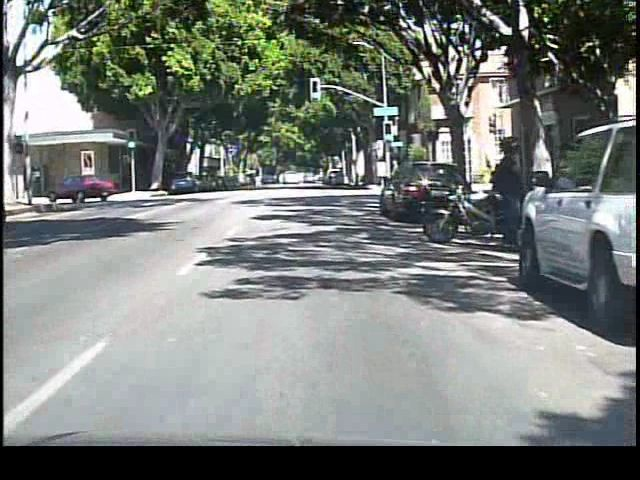person: (485, 131, 529, 254)
